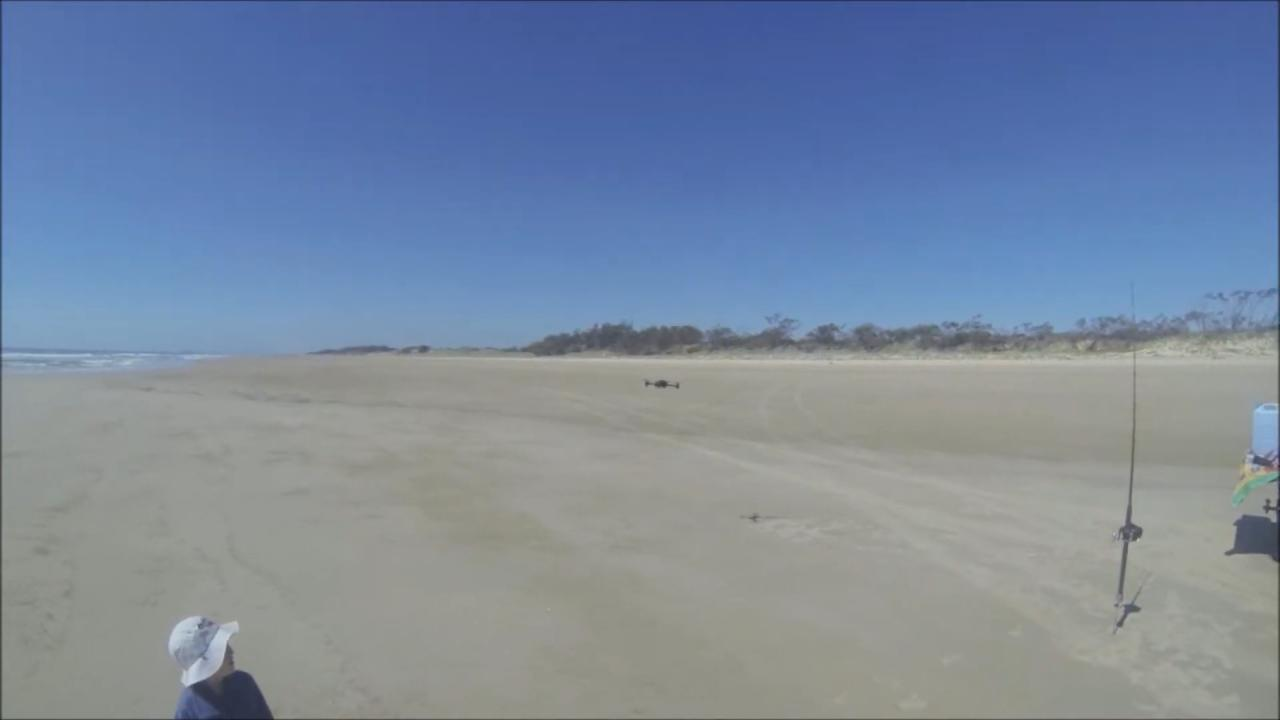Drone: (634, 368, 689, 400)
